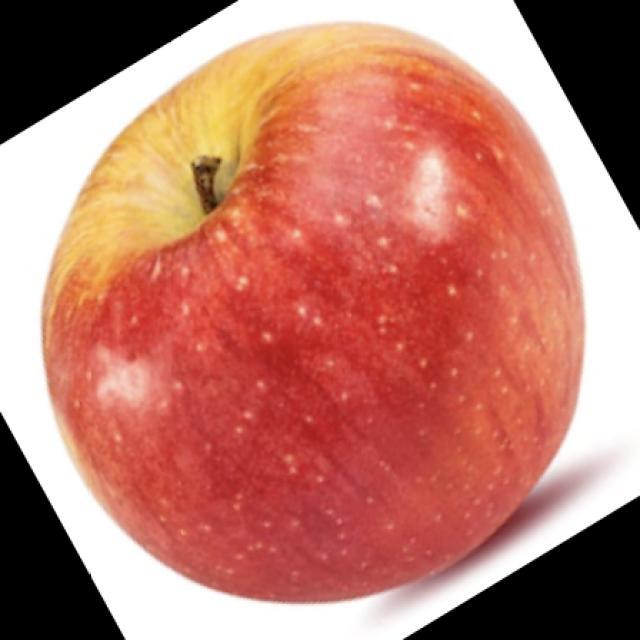Fresh Apple: (74, 32, 584, 578)
